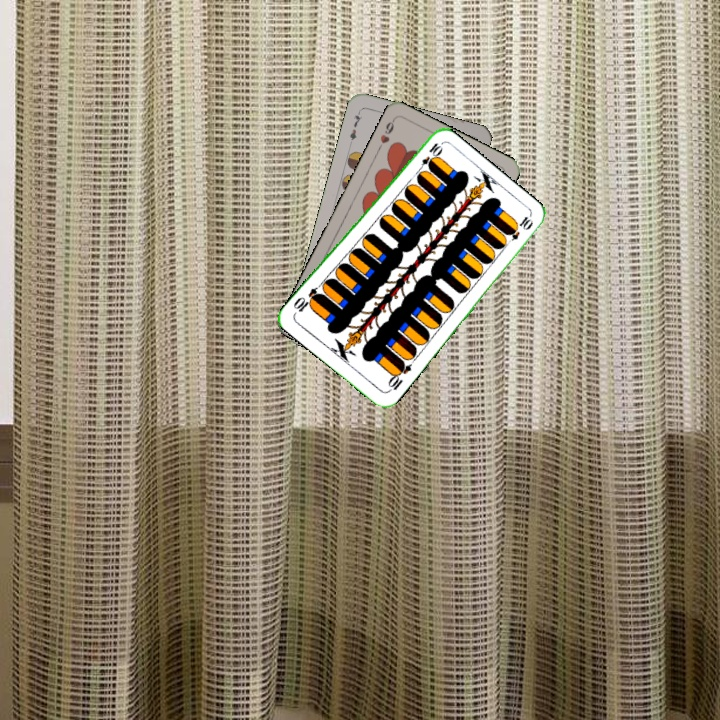E10: (384, 357, 414, 395), (413, 139, 444, 175)
E7: (346, 107, 365, 147)
H9: (374, 115, 397, 153)
